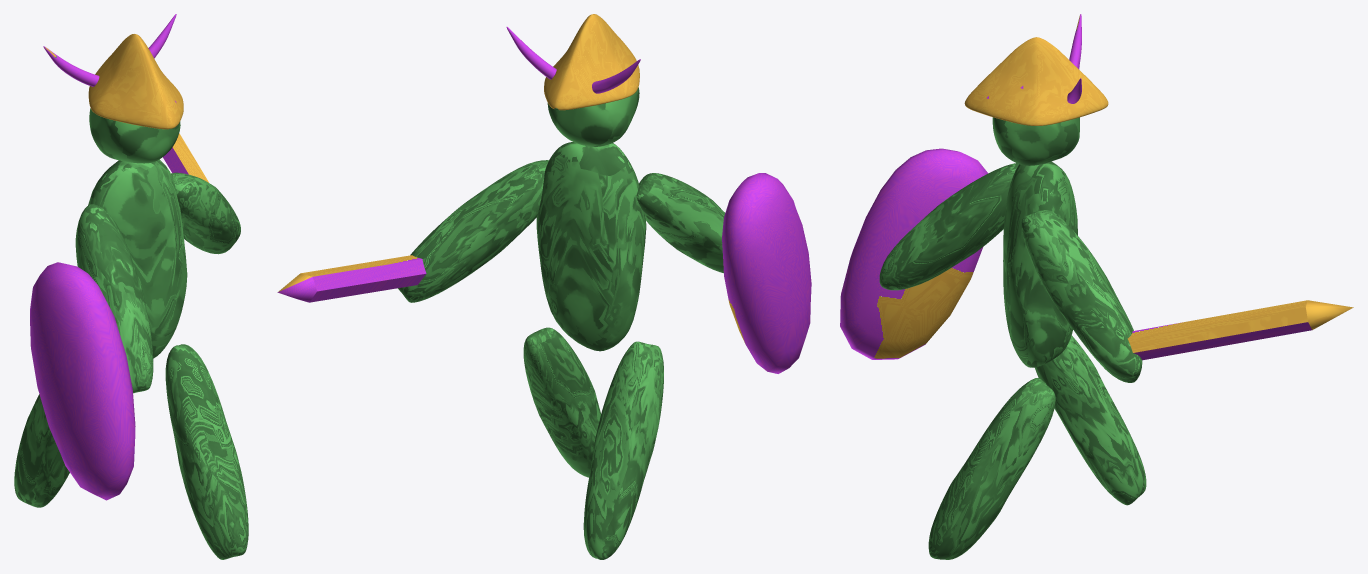
Rendered from Scale_03.obj.
3 views of the same model, side by side, from view 1: azimuth 30°, elevation 25°; view 2: azimuth 150°, elevation 25°; view 3: azimuth 270°, elevation 25° (orthographic).
Parts seen in each view (by area): view 1: polySurface12; view 2: polySurface12; view 3: polySurface12.
Part boxes in pixels (x1,y1,x2,y2): polySurface12: (14, 14, 248, 559); polySurface12: (277, 14, 811, 559); polySurface12: (840, 14, 1353, 559).
Size of the model in its own units: 22.95 by 36.26 by 33.7.
Materials: 1 (1 with a texture image).
